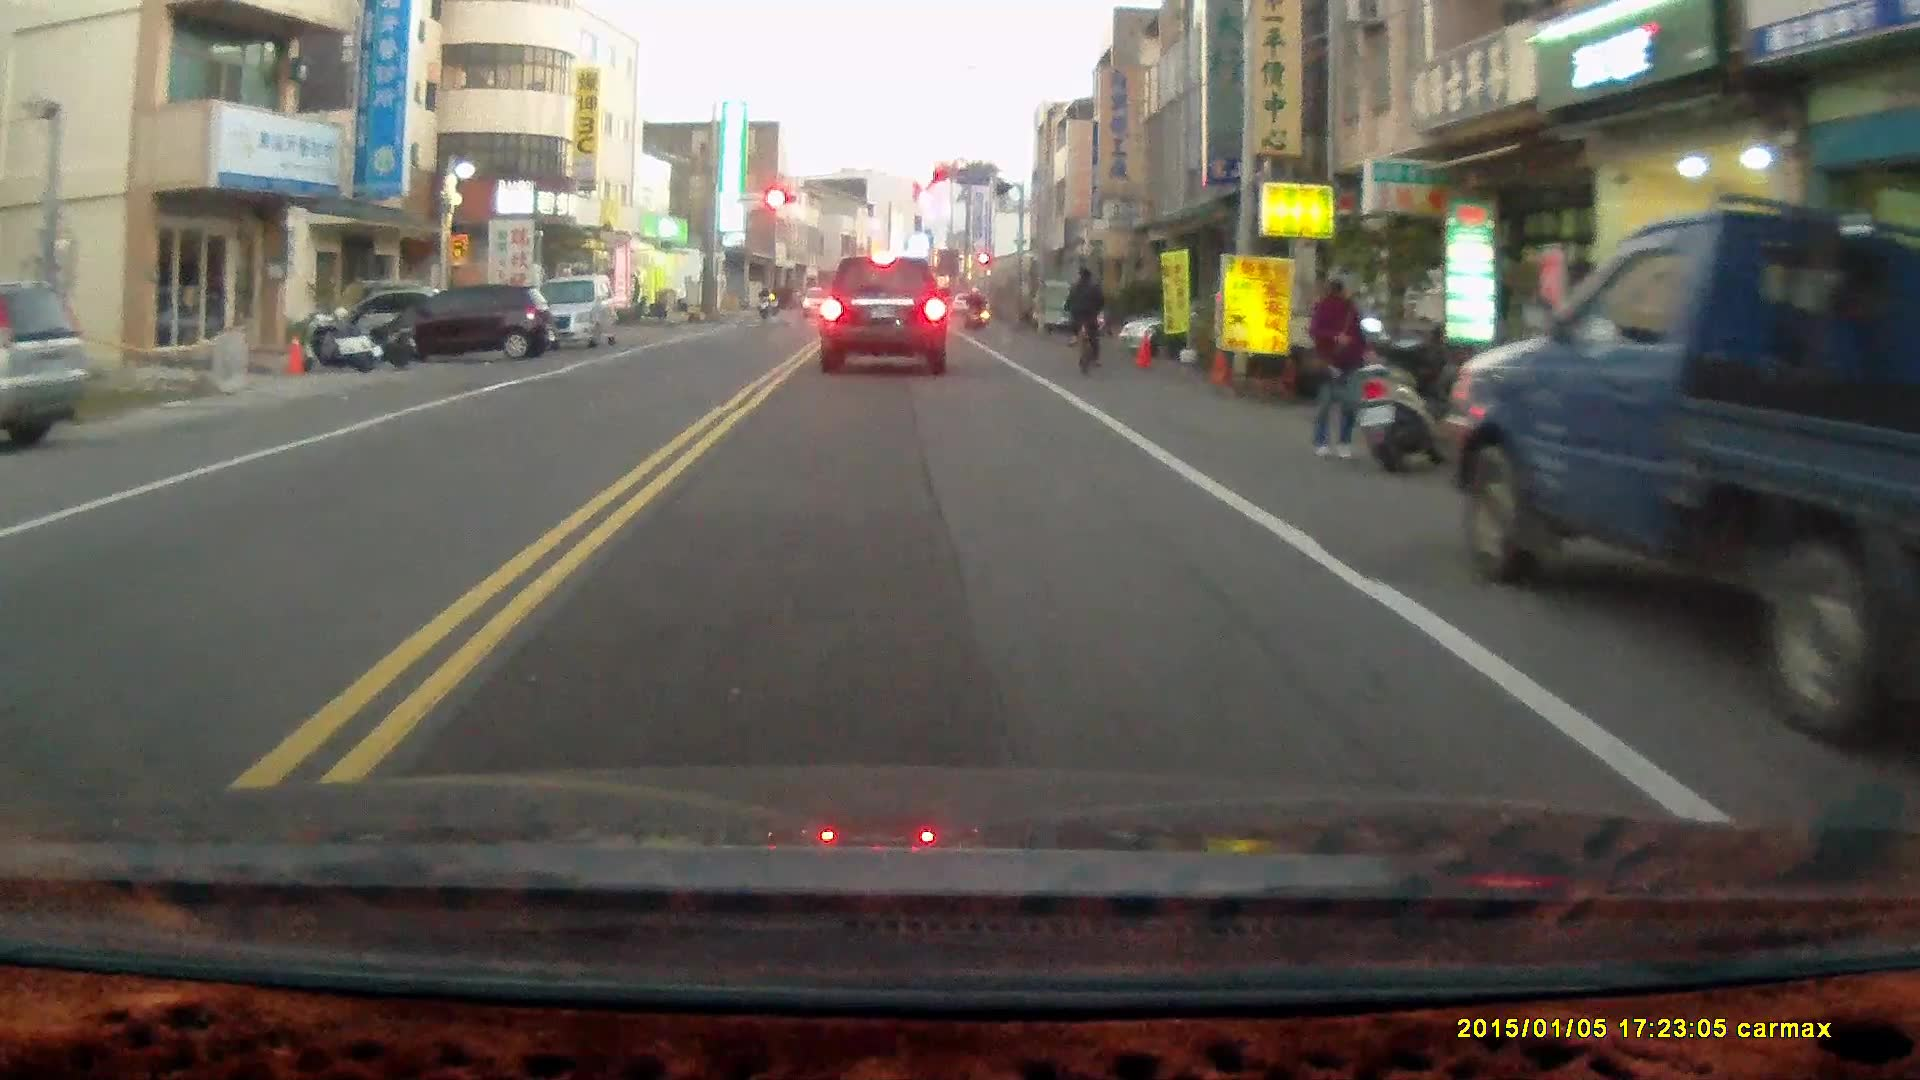pedestrian: (1308, 279, 1373, 469)
rider: (1066, 265, 1110, 375), (964, 288, 988, 333), (754, 287, 774, 321)
vehicle: (1448, 195, 1920, 730), (0, 277, 93, 455), (818, 256, 954, 376), (383, 282, 559, 367), (516, 274, 620, 356)
